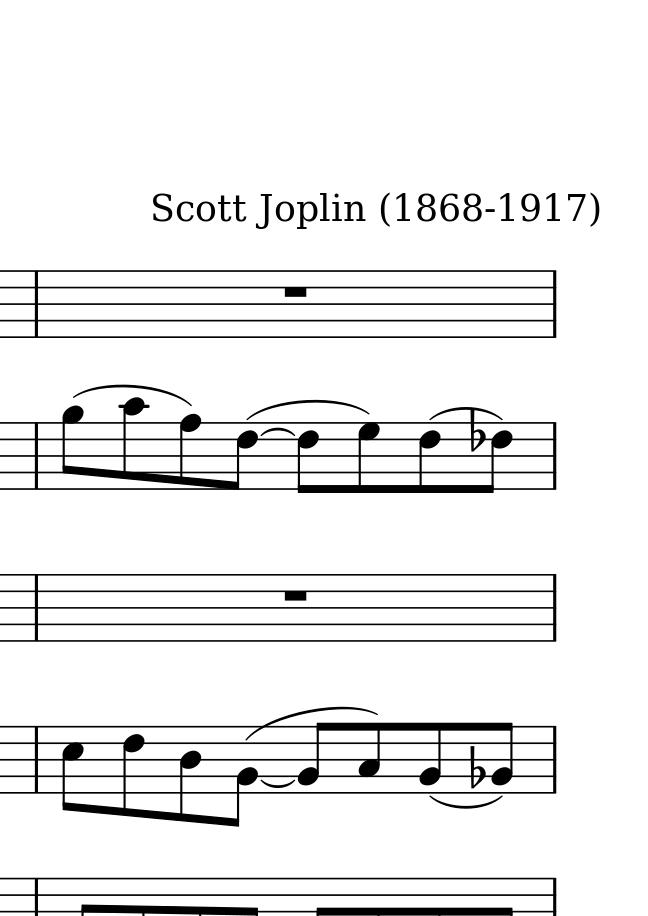8_10: (120, 396, 150, 492)
8_2: (223, 722, 259, 834), (296, 719, 330, 798), (489, 720, 517, 796), (419, 720, 446, 798)
8_3: (358, 720, 382, 796)
8_4: (175, 723, 201, 826)
8_5: (58, 724, 86, 815)
8_6: (480, 421, 518, 497), (119, 723, 145, 820), (226, 419, 260, 493), (415, 419, 443, 499), (294, 421, 321, 496)
8_7: (357, 419, 381, 498)
8_8: (174, 413, 204, 493)
8_9: (60, 404, 86, 490)
Flat: (464, 743, 486, 791), (467, 406, 488, 455)
Rests1: (278, 587, 314, 605), (278, 281, 310, 301)
Single_barline: (545, 577, 563, 639), (546, 725, 562, 793), (28, 725, 44, 792), (546, 271, 562, 336), (546, 423, 562, 488), (29, 423, 44, 489), (29, 273, 44, 335), (29, 577, 44, 639)
Slur: (244, 705, 381, 741), (68, 382, 195, 407), (247, 398, 372, 421), (430, 407, 505, 422), (430, 794, 500, 809), (256, 778, 296, 789), (260, 426, 296, 438)
